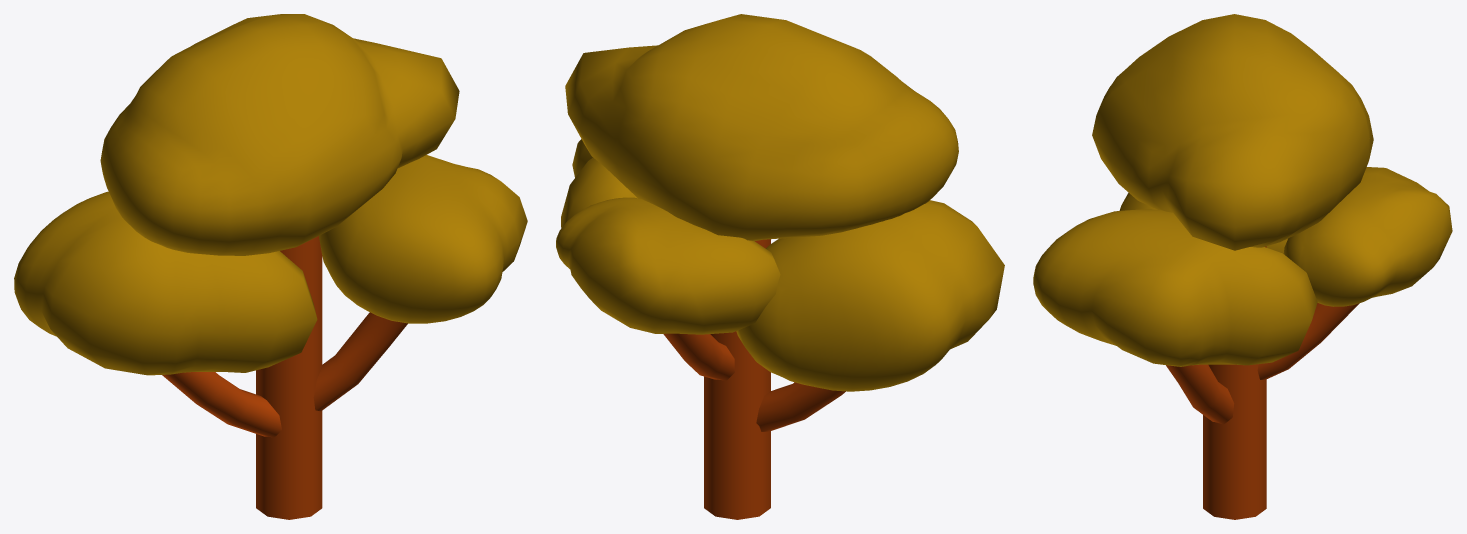
The model's file is Tree_Mesh.fbx.
The picture shows the model from 3 angles, left to right: view 1: azimuth 30°, elevation 25°; view 2: azimuth 150°, elevation 25°; view 3: azimuth 270°, elevation 25°; orthographic projection. The views are drawn at different scales.
Visible parts, largest first — view 1: bush, bush3, bush2, maintrunk, Larm, Rarm; view 2: bush, bush3, bush1, maintrunk, bush2, Rarm, backarm; view 3: bush, bush2, bush1, maintrunk, Larm, backarm, bush3.
Boxes of the visible parts, bbox=[...] form: bush: bbox=[100, 14, 459, 255]; bush3: bbox=[14, 191, 317, 375]; bush2: bbox=[319, 155, 527, 323]; maintrunk: bbox=[256, 236, 322, 519]; Larm: bbox=[313, 312, 407, 411]; Rarm: bbox=[162, 372, 281, 437]; bush: bbox=[565, 14, 958, 241]; bush3: bbox=[736, 200, 1004, 391]; bush1: bbox=[556, 197, 780, 334]; maintrunk: bbox=[704, 239, 770, 519]; bush2: bbox=[561, 139, 637, 227]; Rarm: bbox=[756, 382, 845, 431]; backarm: bbox=[663, 333, 734, 380]; bush: bbox=[1092, 14, 1373, 250]; bush2: bbox=[1033, 209, 1317, 366]; bush1: bbox=[1283, 167, 1452, 306]; maintrunk: bbox=[1203, 246, 1266, 519]; Larm: bbox=[1166, 364, 1234, 424]; backarm: bbox=[1257, 303, 1359, 379]; bush3: bbox=[1119, 192, 1287, 253].
Size of the model in its own units: 25.11 by 26.55 by 21.8.
